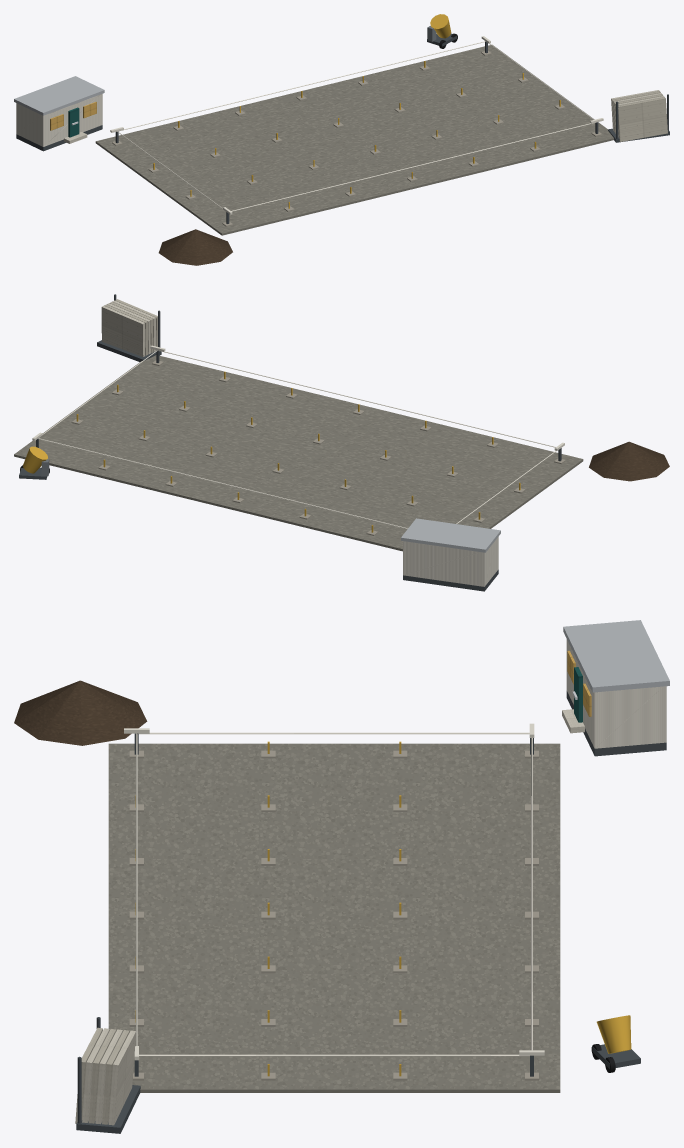
Rendered from lf-2-site.glb.
3 views of the same model, one above another, from view 1: azimuth 30°, elevation 25°; view 2: azimuth 150°, elevation 25°; view 3: azimuth 270°, elevation 25° (orthographic). The views are drawn at different scales.
Size of the model in its own units: 37.2 by 2.95 by 23.24.
15 materials, 7 textured.
